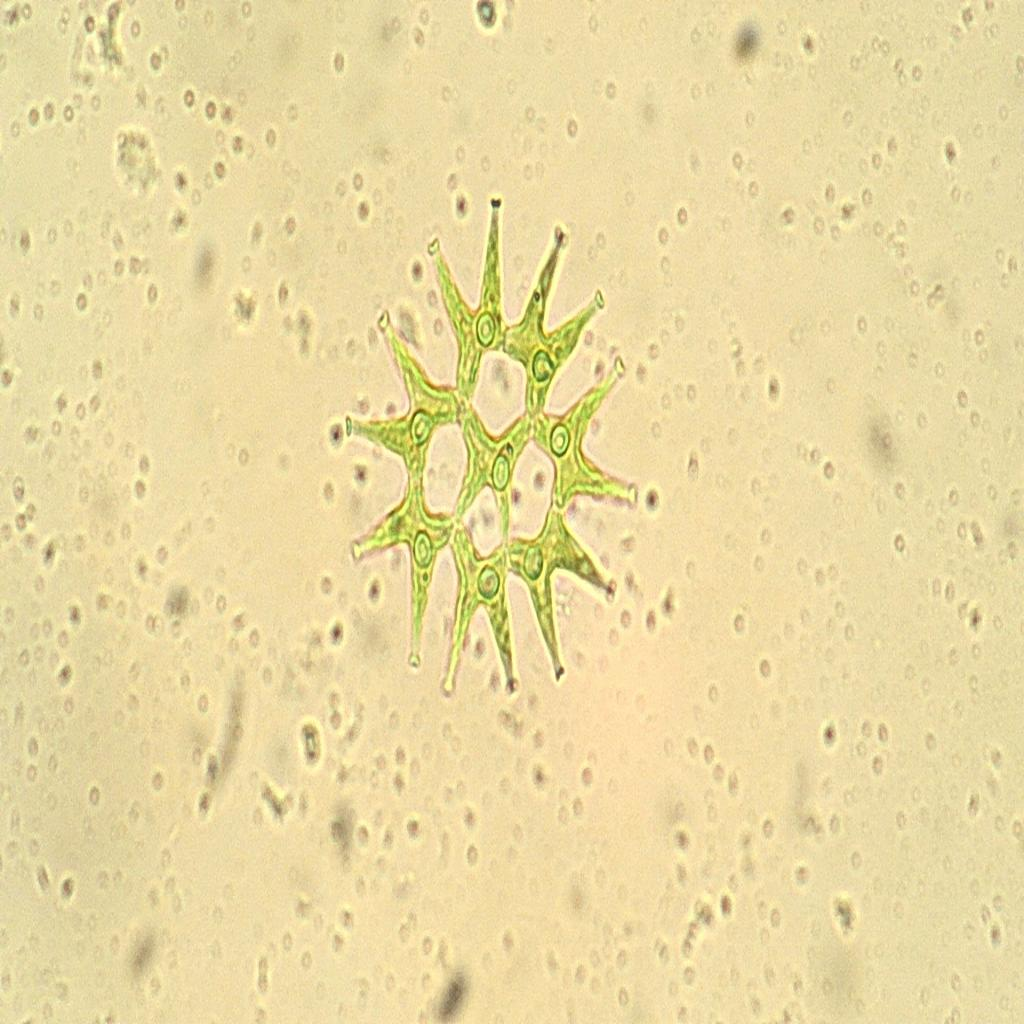Pediastrum_1T: (327, 162, 665, 716)
